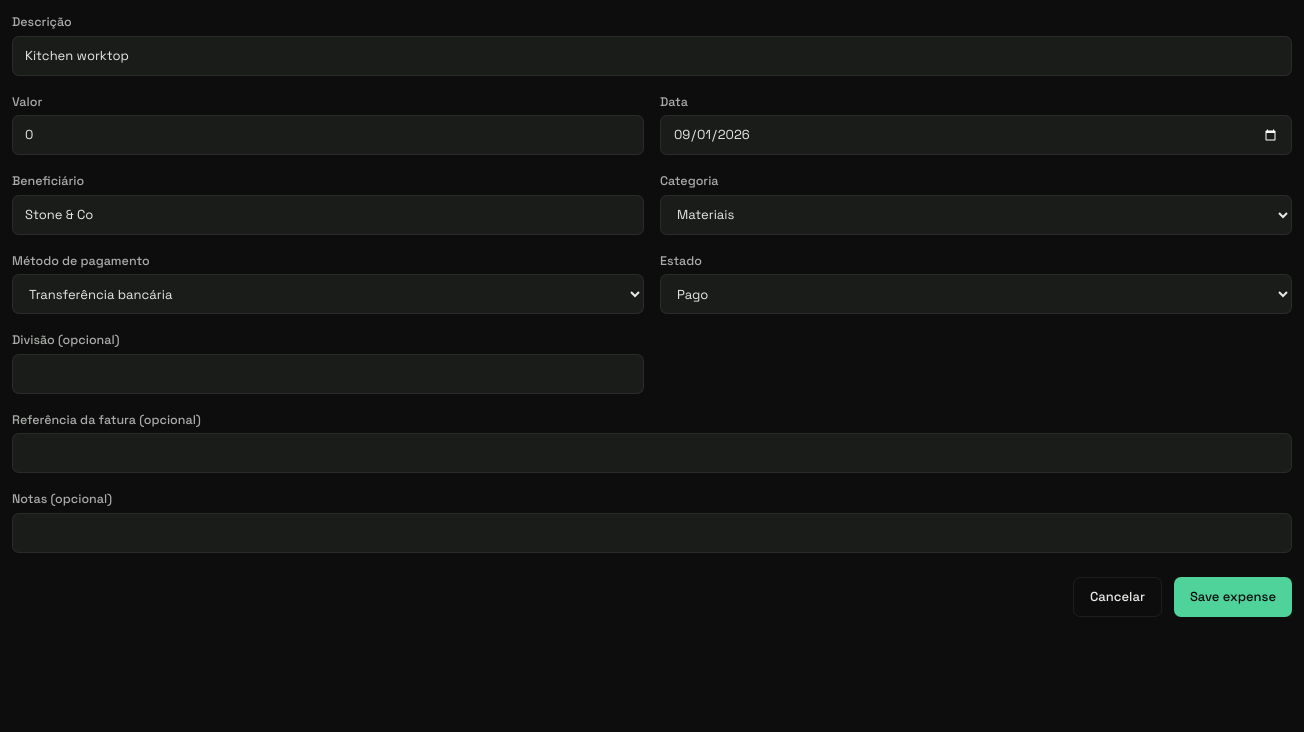
Test: ExpenseForm › renders every field label and error in Portuguese
Check: the field labelled "Descrição" is shown, box [12, 36, 1292, 76]
Check: the field labelled "Valor" is shown, box [12, 115, 644, 155]
Step 1. Click the button "Save expense" → (1233,596), box [1174, 576, 1292, 616]
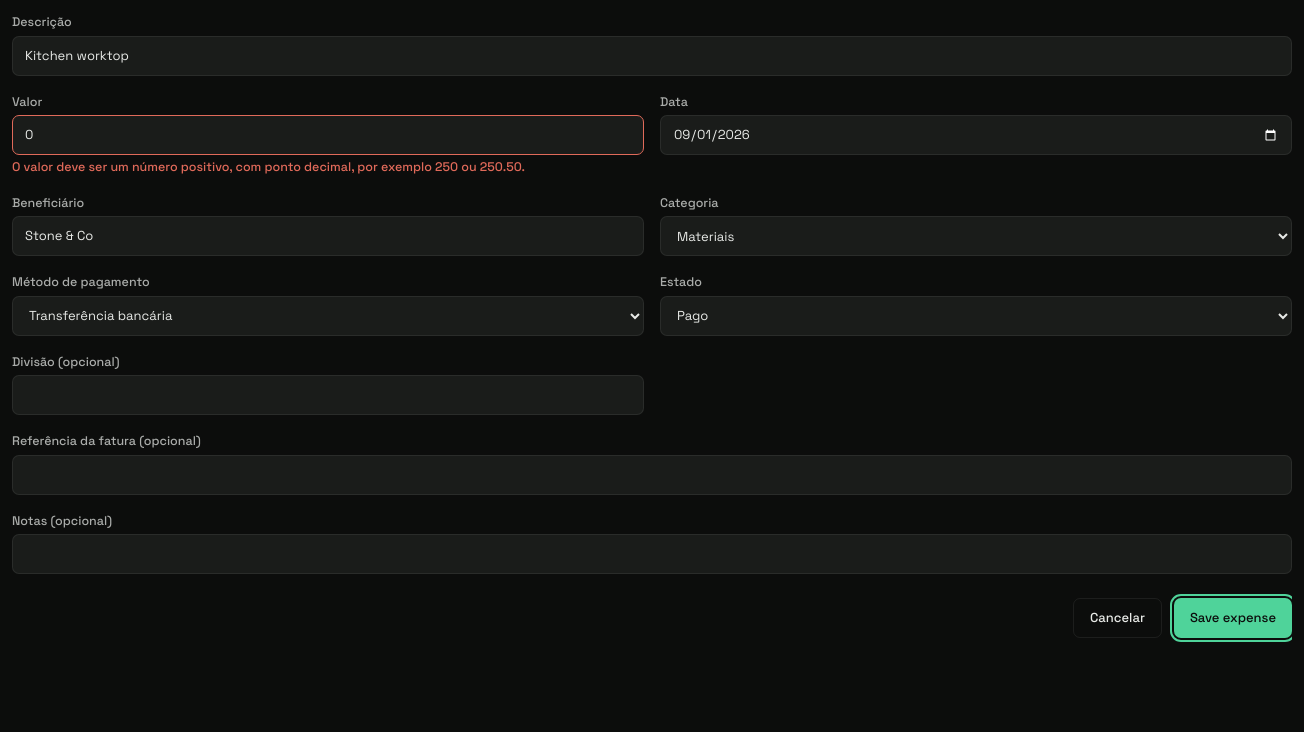
Check: the text "O valor deve ser um número positivo, com ponto decimal, por exemplo 250 ou 250.50." is shown, box [12, 159, 525, 175]
